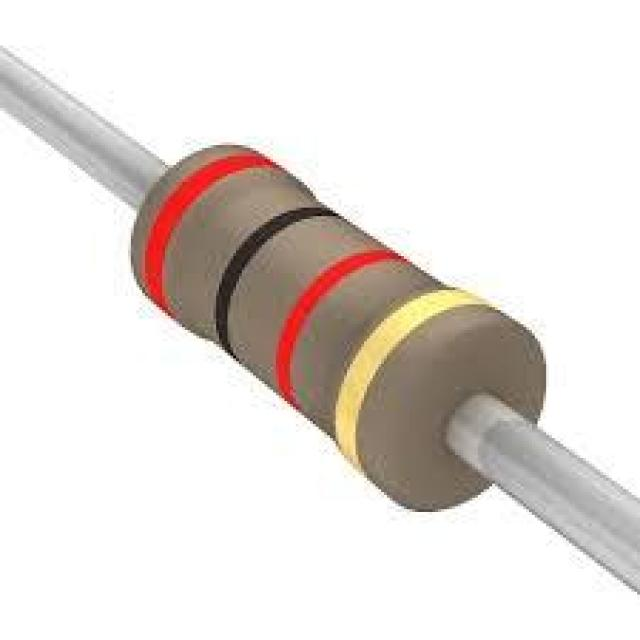Resistor: (131, 145, 543, 509)
black: (214, 207, 340, 358)
gold: (335, 289, 489, 470)
red: (143, 155, 276, 313), (274, 249, 404, 407)
